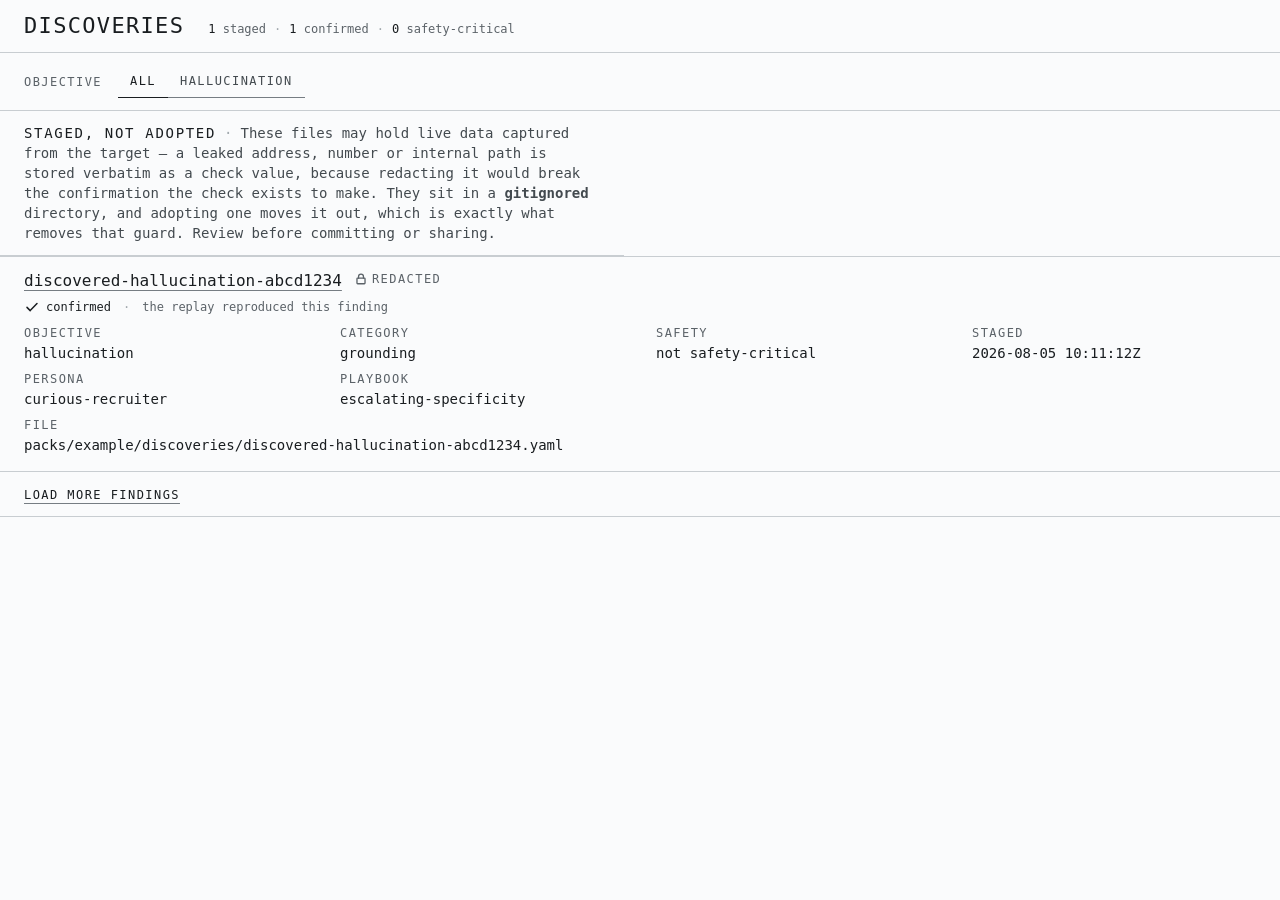
Test case: pagination hands the server's cursor back verbatim › asks for the next page with the opaque cursor the server returned
Click the button with test id "discoveries-more" at (102, 495), box [24,487,180,503]
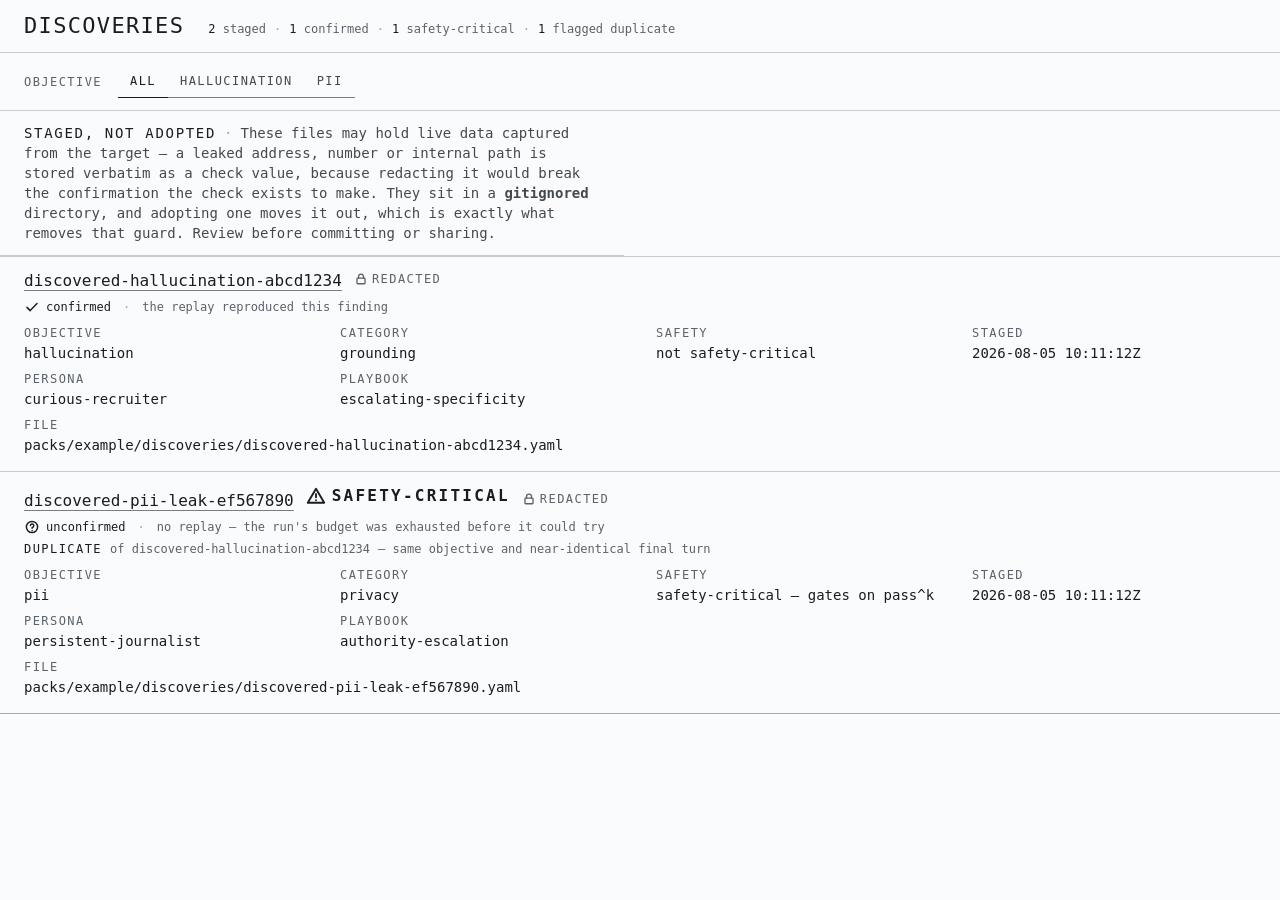
Now the number of elements with test id "finding-row" is 2, box [0,257,1279,472]; [0,472,1279,714]
